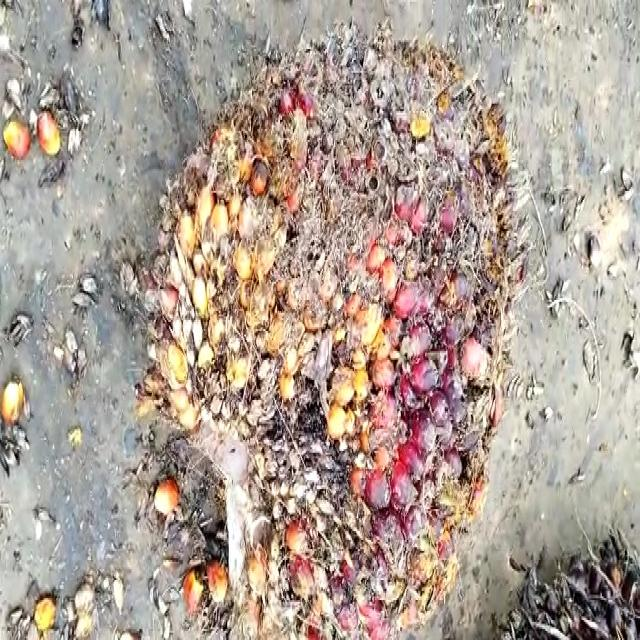palm oil: (150, 21, 508, 640)
